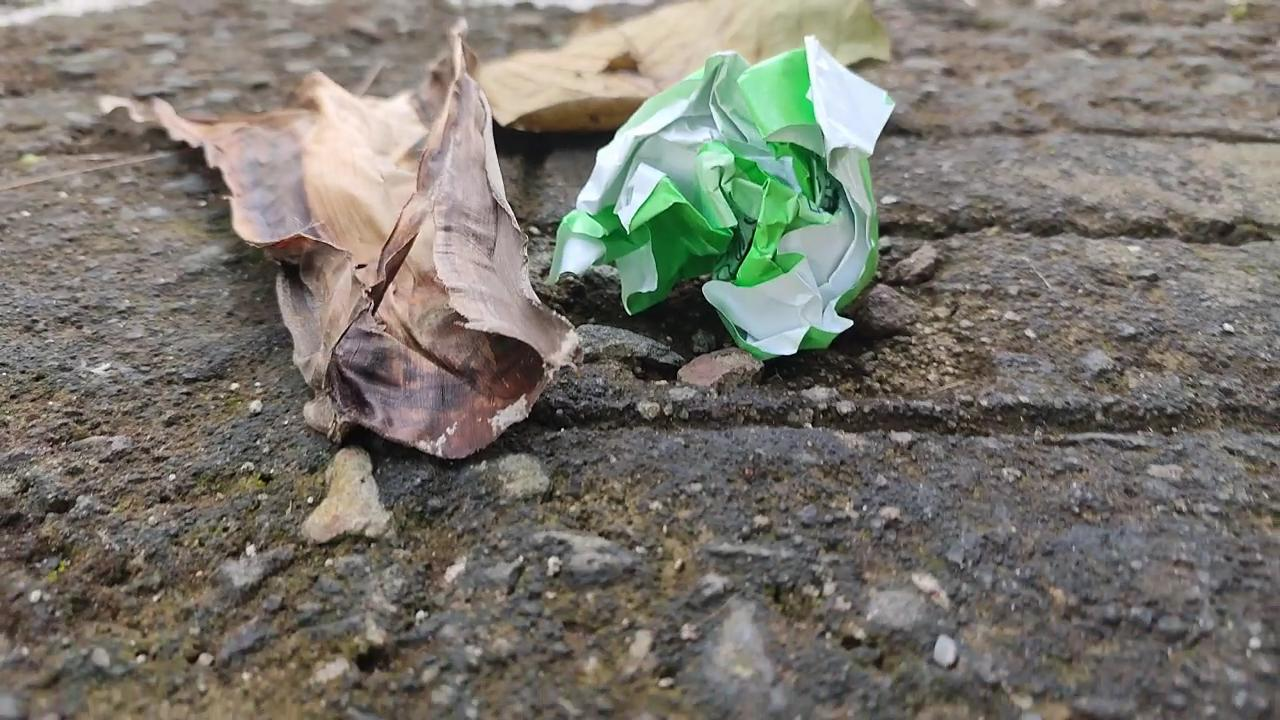Paper: (545, 34, 907, 376)
